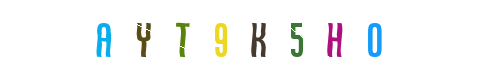0: (294, 0, 374, 80)
5: (204, 0, 284, 80)
9: (198, 0, 278, 80)
A: (169, 0, 249, 80)
H: (210, 0, 290, 80)
K: (200, 0, 280, 80)
T: (197, 0, 277, 80)
Y: (181, 0, 261, 80)
